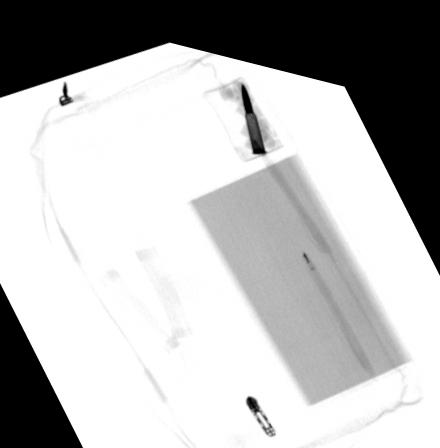Bullet: (239, 69, 264, 142)
